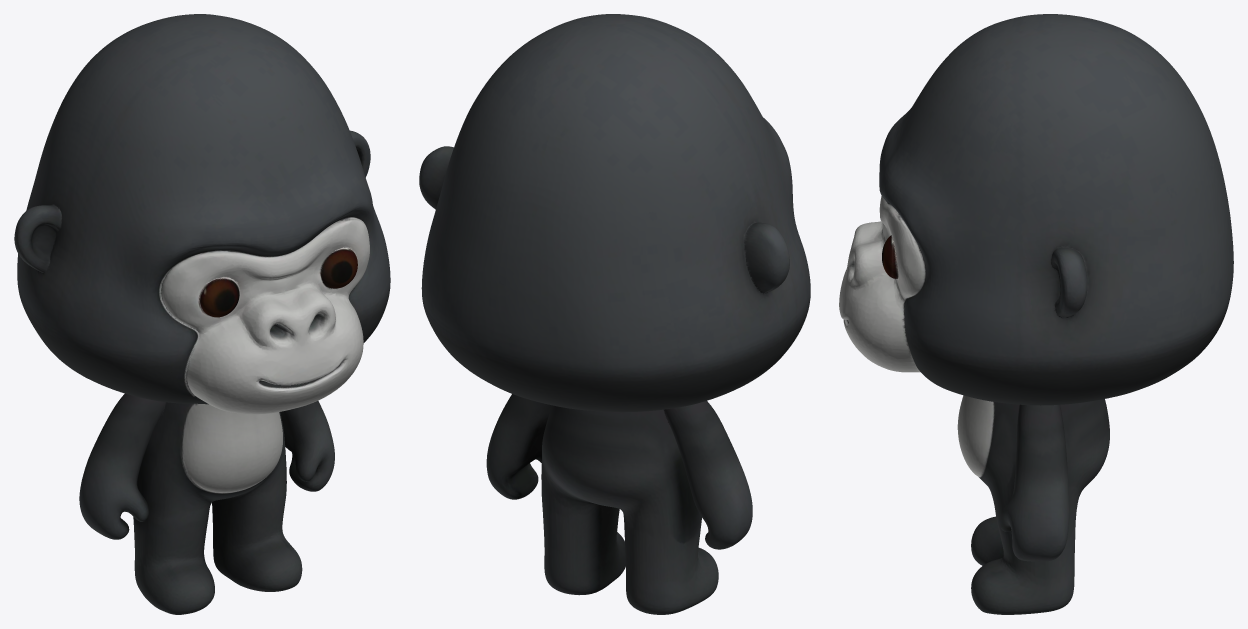
The model's file is gorilla_static.glb.
3 views of the same model, side by side, from view 1: azimuth 30°, elevation 25°; view 2: azimuth 150°, elevation 25°; view 3: azimuth 270°, elevation 25° (orthographic). The views are drawn at different scales.
Parts seen in each view (by area): view 1: tripo_node_31c0e9be-654c-4cc8-a8b8-5647d9aca770; view 2: tripo_node_31c0e9be-654c-4cc8-a8b8-5647d9aca770; view 3: tripo_node_31c0e9be-654c-4cc8-a8b8-5647d9aca770.
Part boxes in pixels (<box>): tripo_node_31c0e9be-654c-4cc8-a8b8-5647d9aca770: <box>14,14,390,614</box>; tripo_node_31c0e9be-654c-4cc8-a8b8-5647d9aca770: <box>419,14,810,614</box>; tripo_node_31c0e9be-654c-4cc8-a8b8-5647d9aca770: <box>839,14,1233,614</box>.
Bounding box in the file's own units: 0.6617 × 0.9796 × 0.6319.
Materials: 1 (1 with a texture image).
